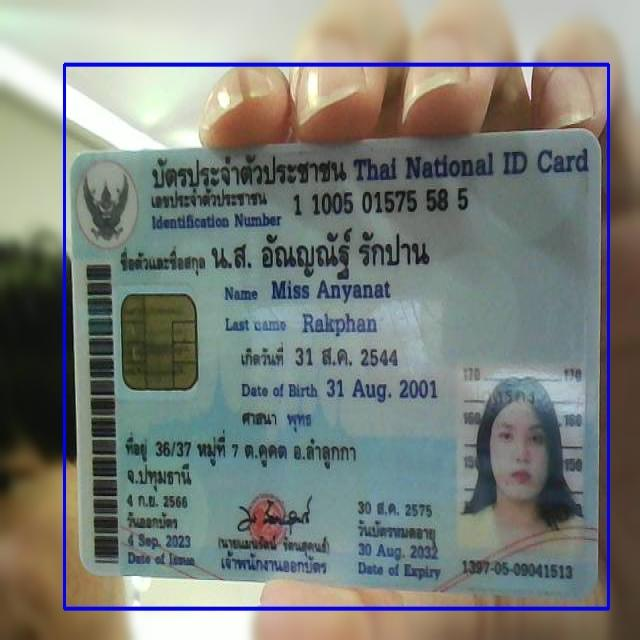Address_th: (120, 424, 367, 490)
Date_of_Birth: (323, 372, 440, 408)
Date_of_Expiry: (356, 538, 440, 563)
Date_of_Issue: (125, 530, 198, 553)
First_Name: (268, 277, 396, 305)
ID_Number: (285, 184, 475, 222)
Image: (460, 363, 587, 560)
Last_Name: (296, 310, 381, 340)
Thai_Name: (209, 227, 438, 280)
